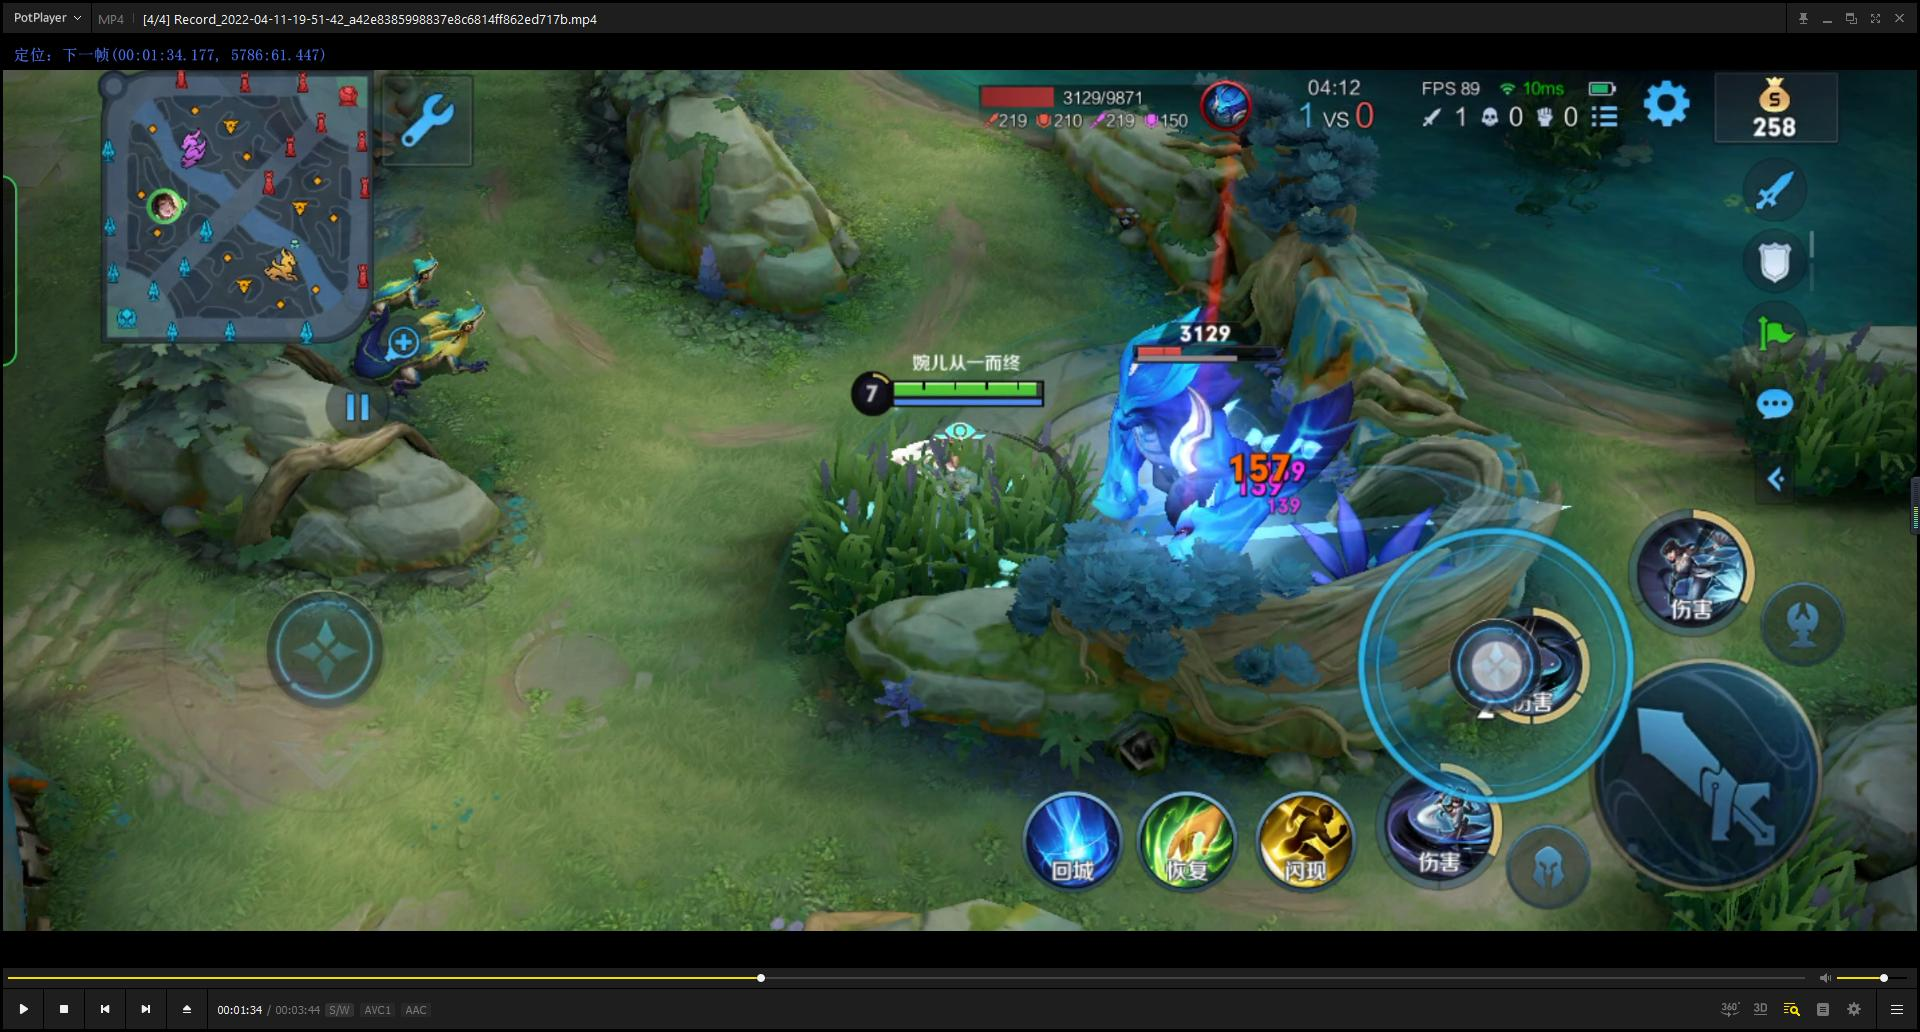Buff: (1050, 308, 1367, 586)
Hero: (862, 417, 1060, 543)
Lizard: (341, 282, 501, 405), (355, 247, 460, 323)
